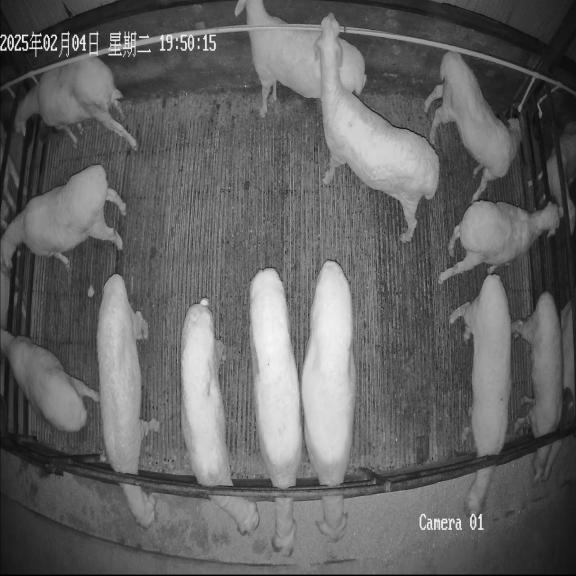drinking: (424, 52, 521, 200), (14, 56, 136, 149)
eating: (180, 298, 259, 534), (97, 273, 160, 528), (301, 260, 356, 541), (249, 268, 302, 556), (450, 274, 511, 515), (511, 291, 563, 480)
stand: (316, 14, 439, 242), (235, 0, 366, 116), (1, 165, 125, 273), (438, 200, 562, 283), (0, 329, 99, 432)
